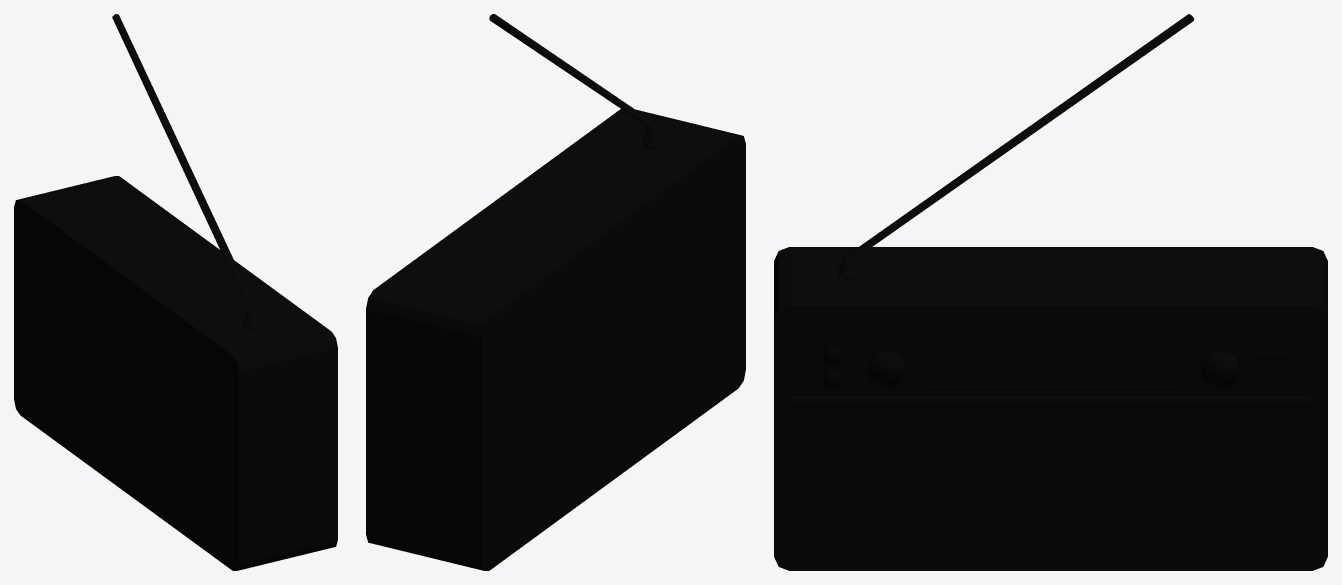
Rendered from Radio.fbx.
3 views of the same model, side by side, from view 1: azimuth 30°, elevation 25°; view 2: azimuth 150°, elevation 25°; view 3: azimuth 270°, elevation 25° (orthographic). The views are drawn at different scales.
Parts seen in each view (by area): view 1: Radio; view 2: Radio; view 3: Radio.
Part boxes in pixels (x1=…): Radio: x1=14, y1=14, x2=337, y2=570; Radio: x1=366, y1=14, x2=745, y2=570; Radio: x1=774, y1=14, x2=1327, y2=570.
Size of the model in its own units: 0.1868 by 0.7713 by 0.7377.
